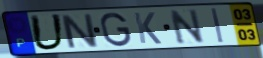G: (99, 11, 133, 48)
I: (209, 7, 226, 44)
K: (132, 11, 163, 45)
N: (58, 12, 101, 50), (167, 8, 207, 46)
U: (28, 13, 67, 52)
